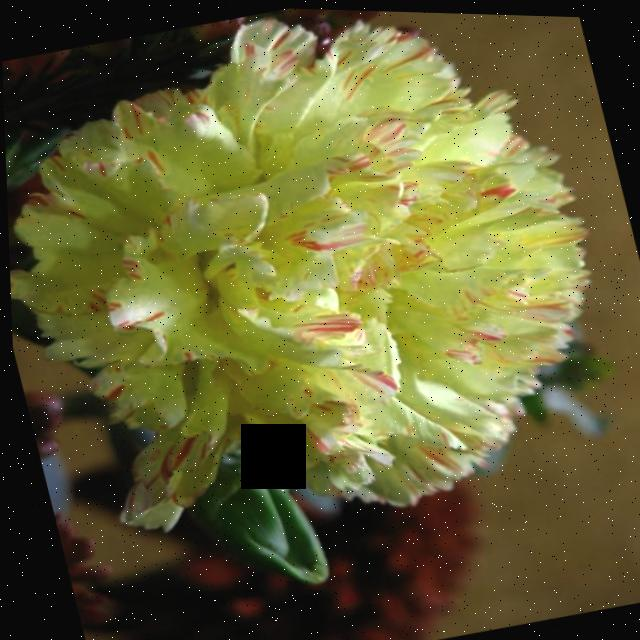carnation: (0, 0, 640, 559)
